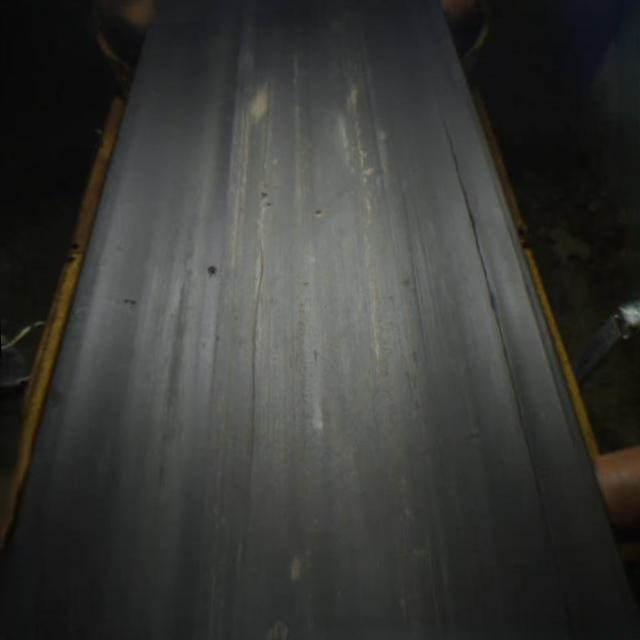Hole: (204, 262, 220, 279)
Puncture: (312, 206, 324, 219), (258, 190, 270, 200), (266, 200, 274, 208)
Tear: (430, 110, 558, 530), (239, 236, 272, 504)
